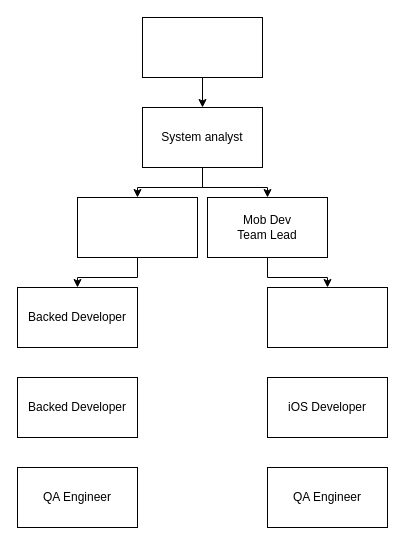
Image size: 405x545. Some labels were removed from this diagram. The centre of each missing label's shape, as x and y in pixels:
"Android Developer" belongs at point (327, 317).
"Back Dev Team Lead" belongs at point (137, 227).
"Product owner" belongs at point (202, 47).
